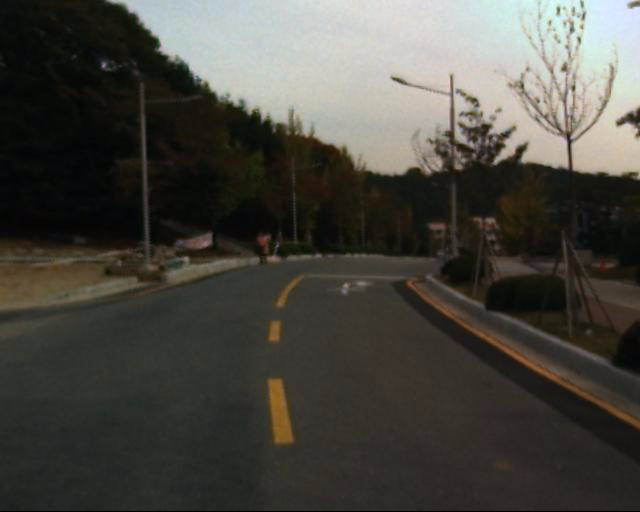person: (256, 229, 276, 269)
